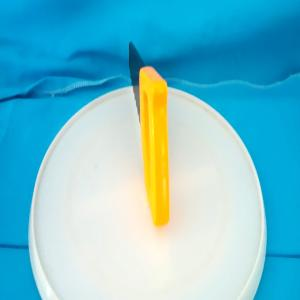serrote: (128, 40, 170, 228)
